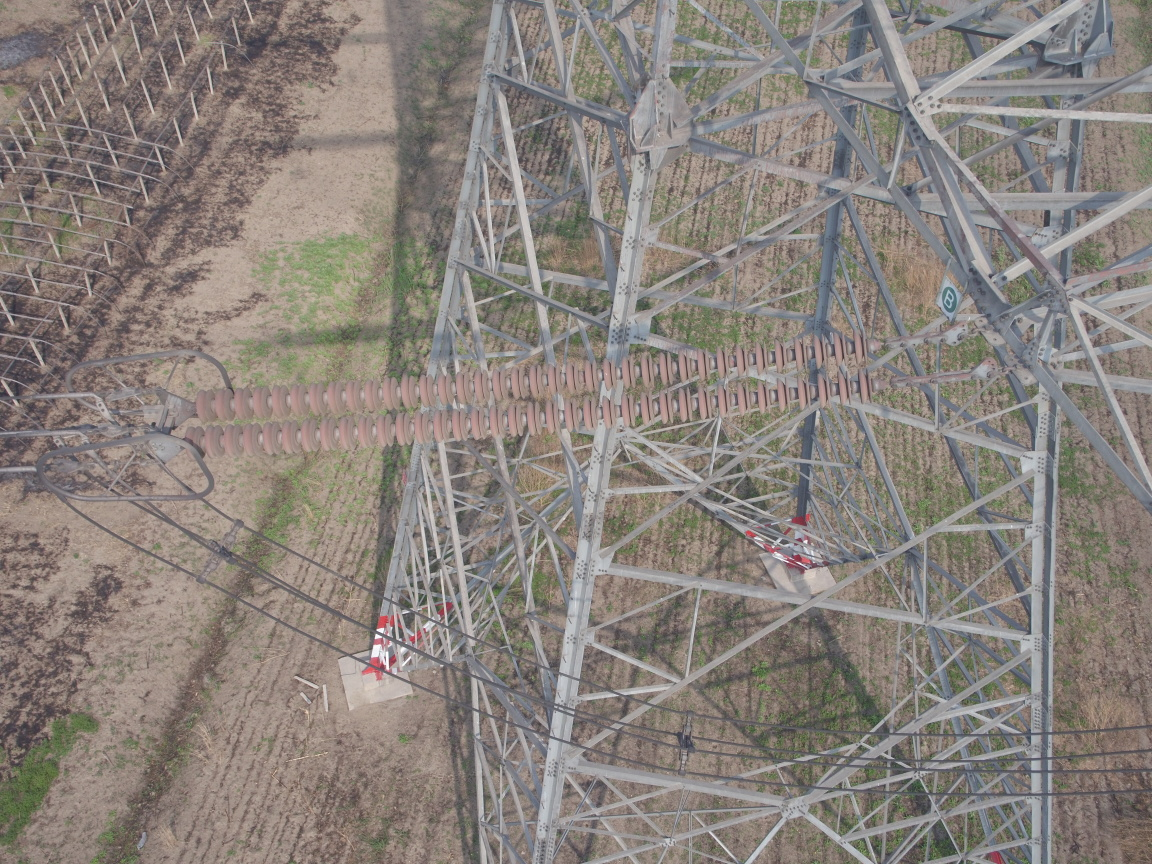insulator: (175, 328, 908, 458)
